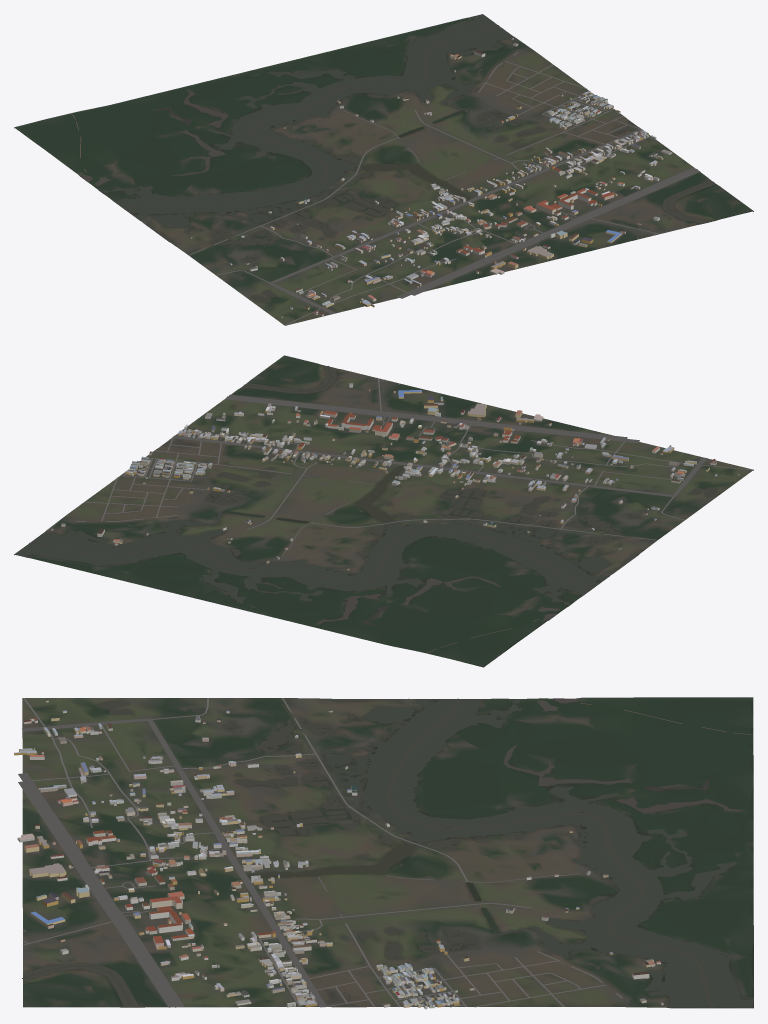
The picture shows the model from 3 angles, top to bottom: view 1: azimuth 30°, elevation 25°; view 2: azimuth 150°, elevation 25°; view 3: azimuth 270°, elevation 25°; orthographic projection. The views are drawn at different scales.
Parts seen in each view (by area): view 1: ground, water, buildings, roads; view 2: ground, water, buildings, roads; view 3: ground, water, buildings, roads.
Boxes of the visible parts, <box> form: ground: <box>14,17,753,325</box>; water: <box>81,14,715,302</box>; buildings: <box>188,38,672,317</box>; roads: <box>71,52,700,325</box>; ground: <box>14,355,753,667</box>; water: <box>15,365,717,626</box>; buildings: <box>51,383,739,570</box>; roads: <box>76,378,752,653</box>; ground: <box>22,697,753,1008</box>; water: <box>22,698,753,1008</box>; buildings: <box>14,700,663,1009</box>; roads: <box>18,698,752,1007</box>.
Bounding box in the file's own units: 1412 × 18.15 × 1418.
